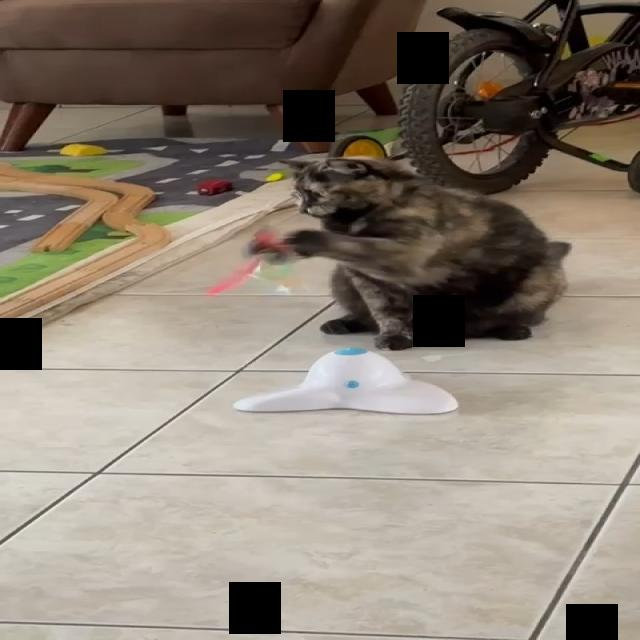authorized: (276, 154, 572, 350)
